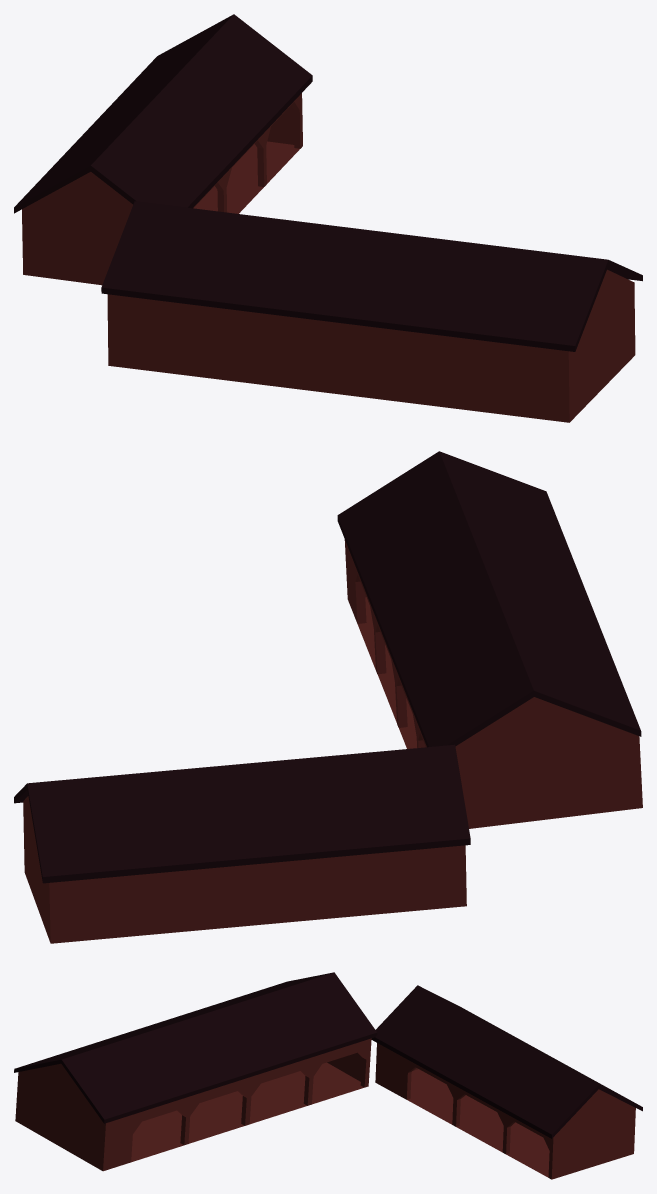
The model's file is carriage sheds.gltf.
3 views of the same model, one above another, from view 1: azimuth 30°, elevation 25°; view 2: azimuth 150°, elevation 25°; view 3: azimuth 270°, elevation 25° (orthographic). The views are drawn at different scales.
Visible parts, largest first — view 1: Cube.005, Cube.445; view 2: Cube.005, Cube.445; view 3: Cube.005, Cube.445.
Part boxes in pixels (left/top/right/bottom): Cube.005: left=101, top=201, right=642, bottom=422; Cube.445: left=14, top=14, right=312, bottom=285; Cube.005: left=337, top=451, right=642, bottom=828; Cube.445: left=14, top=744, right=470, bottom=943; Cube.005: left=14, top=972, right=377, bottom=1171; Cube.445: left=371, top=985, right=642, bottom=1179.
Size of the model in its own units: 32.59 by 11.6 by 60.78.
